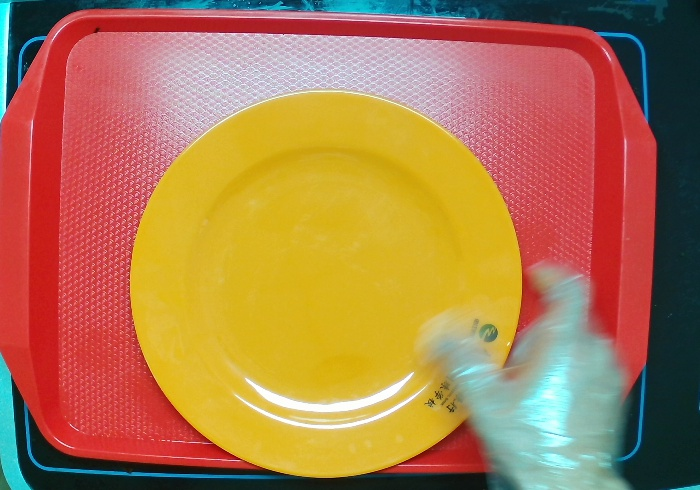YKMZ-Ju_Se_Mian_Pan: (115, 88, 528, 474)
